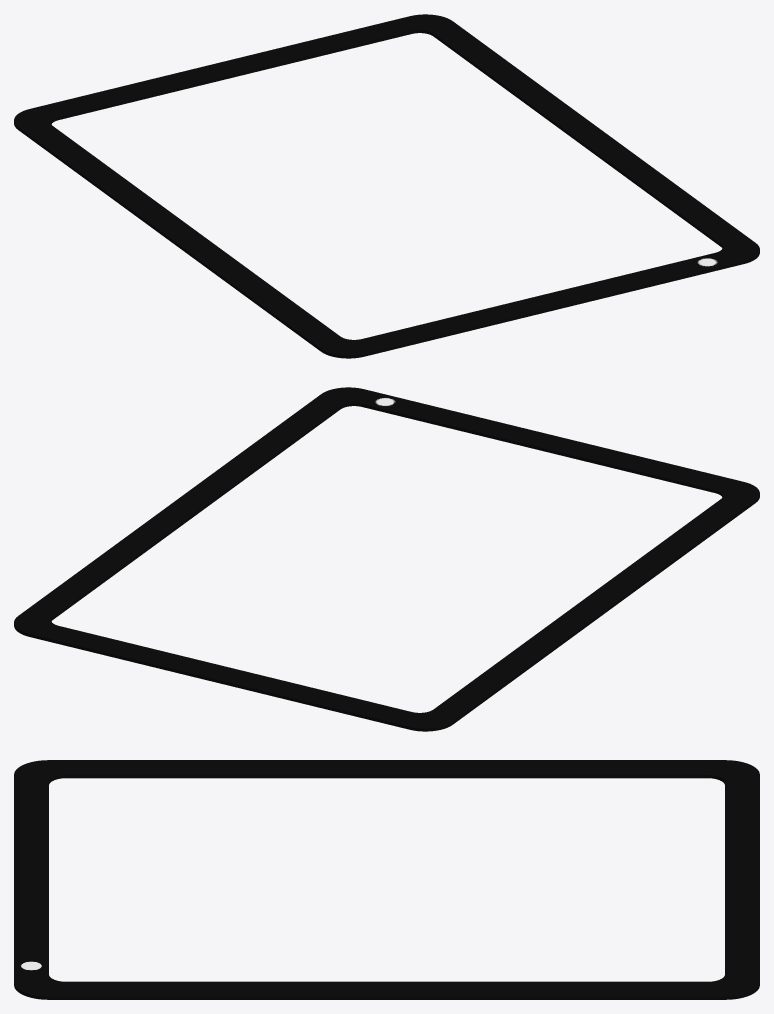
Rendered from T5_border_XE.glb.
3 renders of one model, top to bottom at view 1: azimuth 30°, elevation 25°; view 2: azimuth 150°, elevation 25°; view 3: azimuth 270°, elevation 25°, orthographic. The views are drawn at different scales.
Parts seen in each view (by area): view 1: Border_Flat; view 2: Border_Flat; view 3: Border_Flat.
Part boxes in pixels (bbox=[...]): Border_Flat: bbox=[14, 14, 759, 358]; Border_Flat: bbox=[14, 387, 759, 731]; Border_Flat: bbox=[14, 760, 759, 999].
Bounding box in the file's own units: 0.8001 × 0.00527 × 1.07.
1 material, 1 textured.
